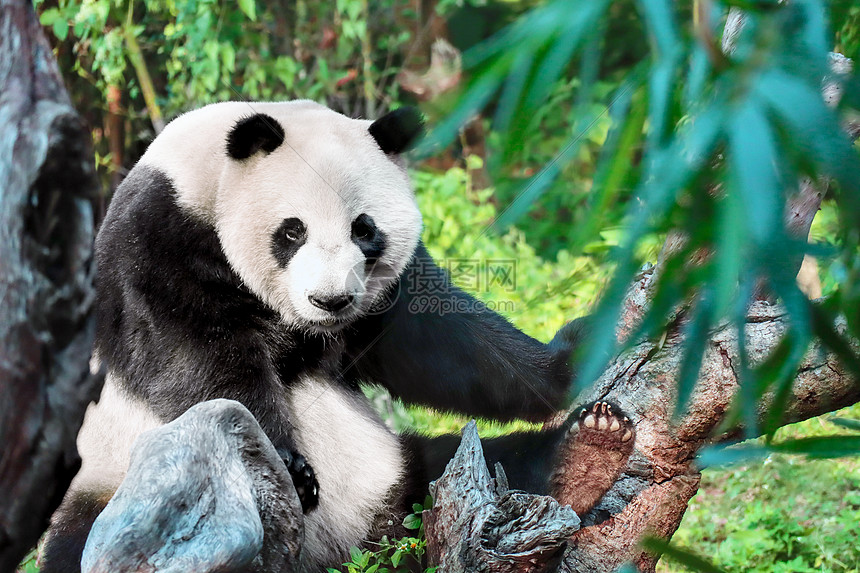panda: (76, 91, 559, 557)
